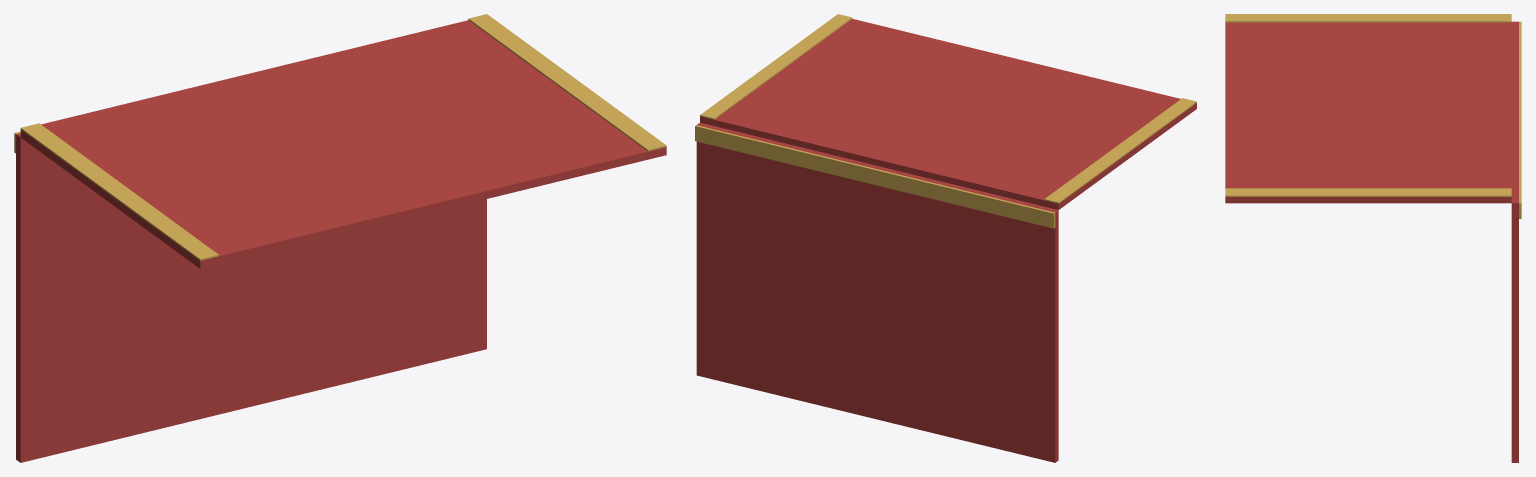
File: ncb-runner-rise.glb
3 renders of one model, left to right at view 1: azimuth 30°, elevation 25°; view 2: azimuth 150°, elevation 25°; view 3: azimuth 270°, elevation 25°, orthographic. The views are drawn at different scales.
Parts seen in each view (by area): view 1: box-prop; view 2: box-prop; view 3: box-prop.
Boxes of the visible parts, left/top/right/bottom form: box-prop: left=14, top=14, right=666, bottom=462; box-prop: left=695, top=14, right=1196, bottom=462; box-prop: left=1225, top=14, right=1521, bottom=462.
Size of the model in its own units: 1.5 by 1.03 by 1.04.
